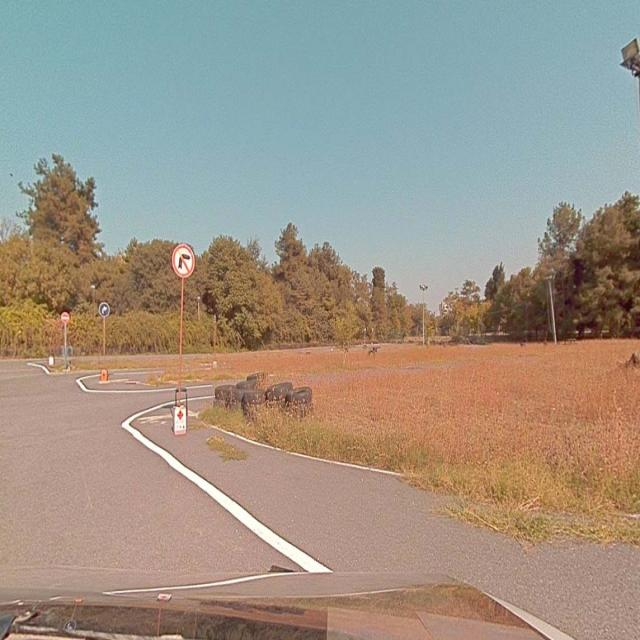girisyok: (61, 312, 69, 323)
sag: (99, 302, 110, 316)
sagadonulmez: (172, 244, 194, 276)
